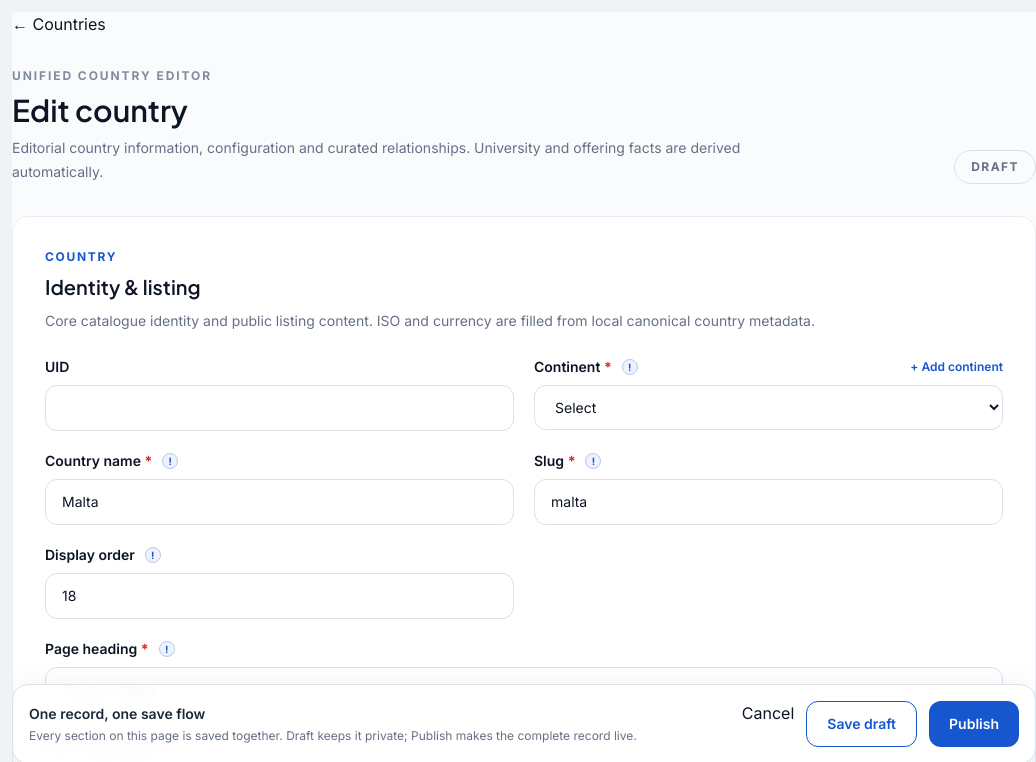
Test case: country editor save and publish flow › lets the operator dismiss a draft confirmation
This screenshot has width=1036, height=762.
Expected: the field showing "Malta" is shown, [45,479,514,525]
Step 1. Click the button "Save draft" → (862, 724), box [806,701,917,747]
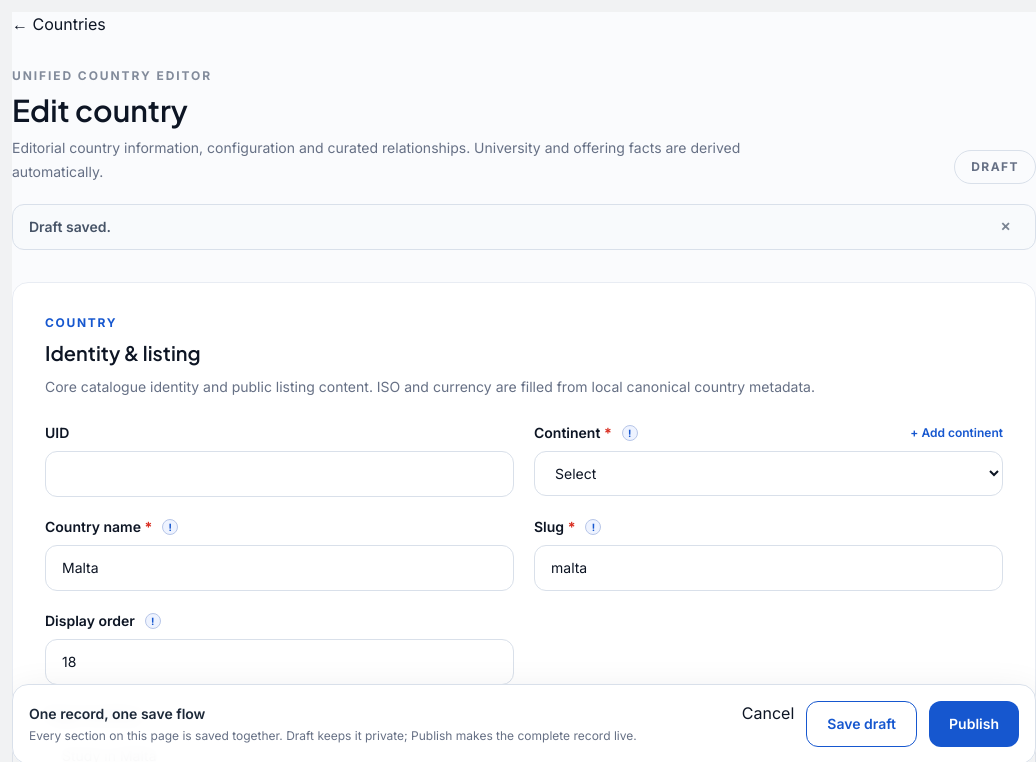
Result: the text "Draft saved." is shown at [29,217,111,237]
Step 2. Click the button named "Dismiss message" → (1006, 225), box [992,217,1019,233]
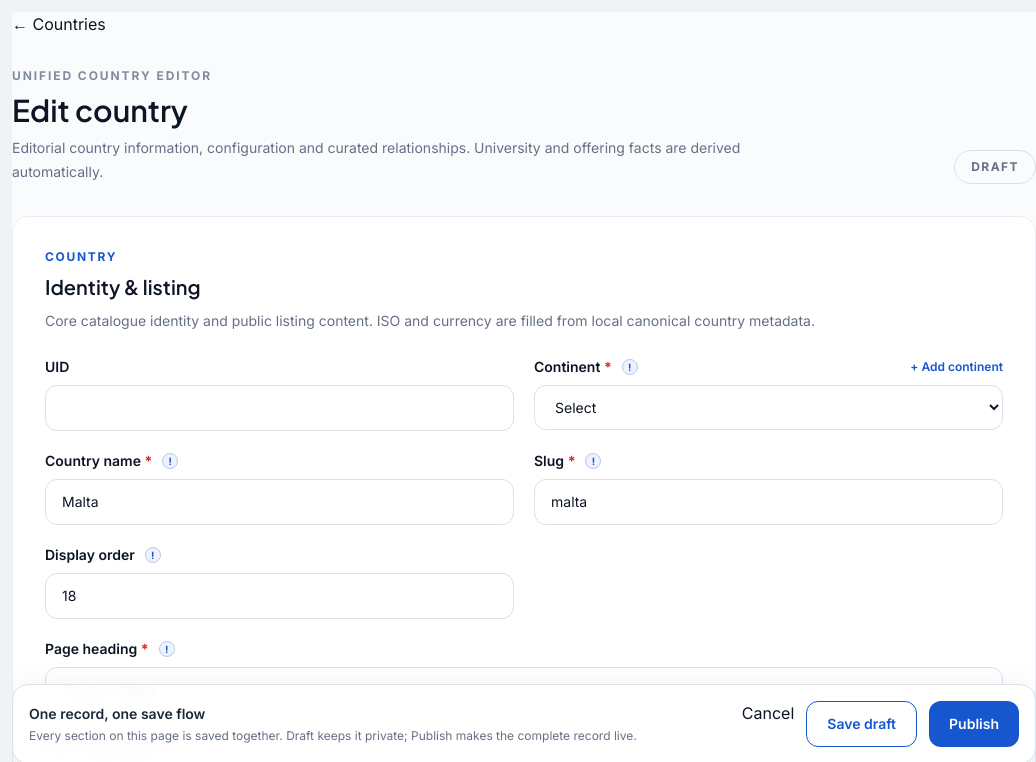
Result: the text "Draft saved." is gone
